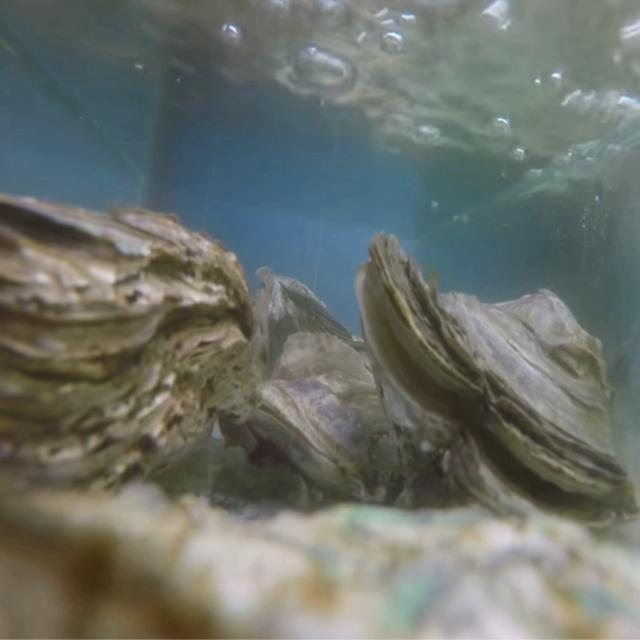Oyster-Closed: (0, 193, 256, 518), (249, 331, 415, 509)
Oyster-Indeterminate: (0, 482, 640, 640), (254, 261, 370, 377)
Oyster-Open: (354, 230, 640, 538)
